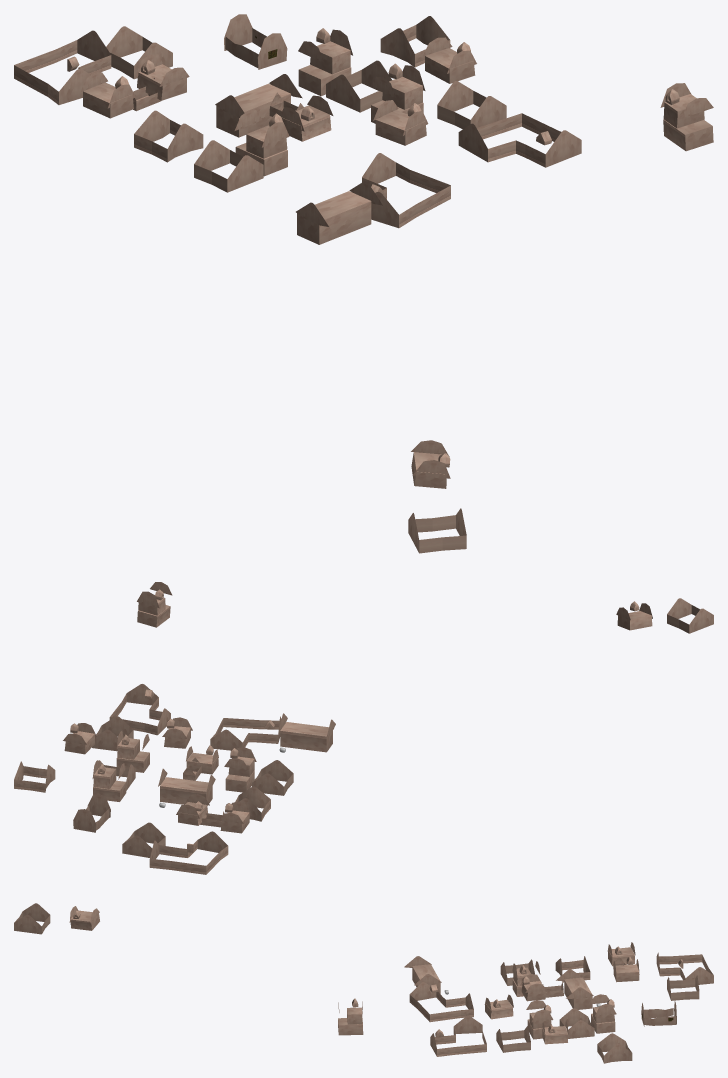
The model's file is HouseWalls.FBX.
3 views of the same model, one above another, from view 1: azimuth 30°, elevation 25°; view 2: azimuth 150°, elevation 25°; view 3: azimuth 270°, elevation 25° (orthographic). The views are drawn at different scales.
Parts seen in each view (by area): view 1: Box1696; view 2: Box1696; view 3: Box1696.
Boxes of the visible parts, <box> form: Box1696: <box>14,14,713,553</box>; Box1696: <box>14,582,713,874</box>; Box1696: <box>14,903,713,1063</box>.
Size of the model in its own units: 339 by 73.21 by 620.
